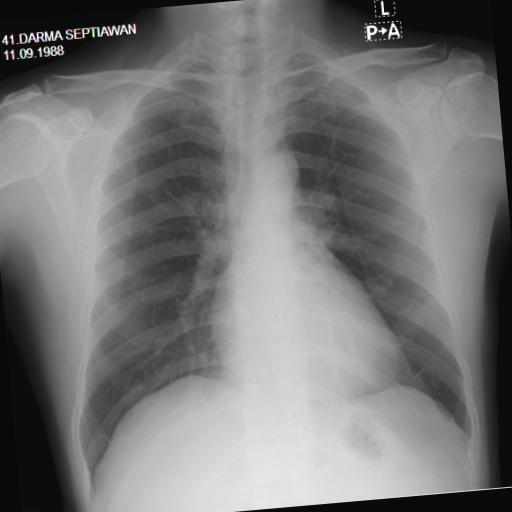kardiomegali: (36, 6, 489, 492)
